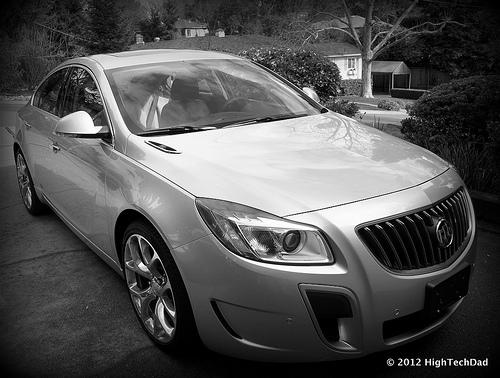car: (12, 48, 481, 366)
